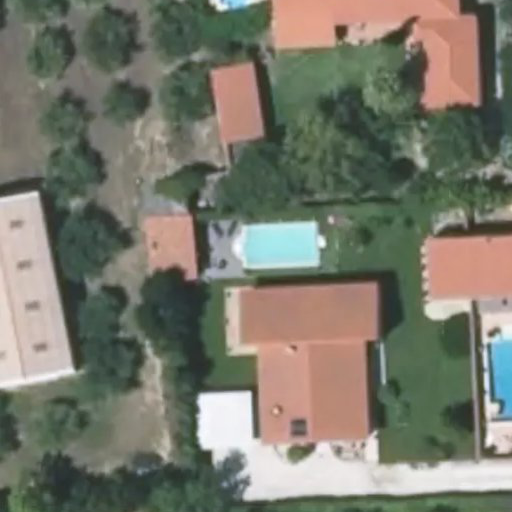pool: (217, 220, 294, 264)
